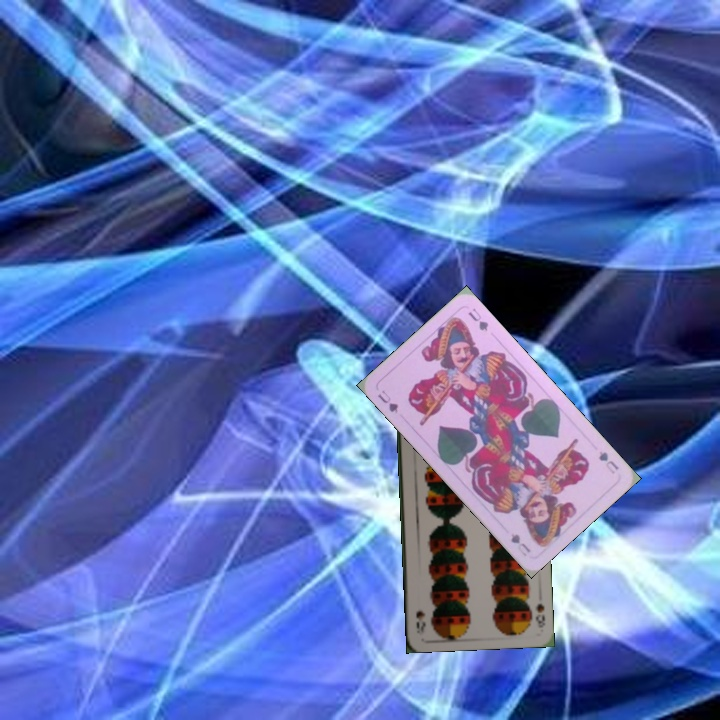GU: (373, 386, 401, 416), (595, 447, 621, 477)
S8: (532, 599, 548, 630)
